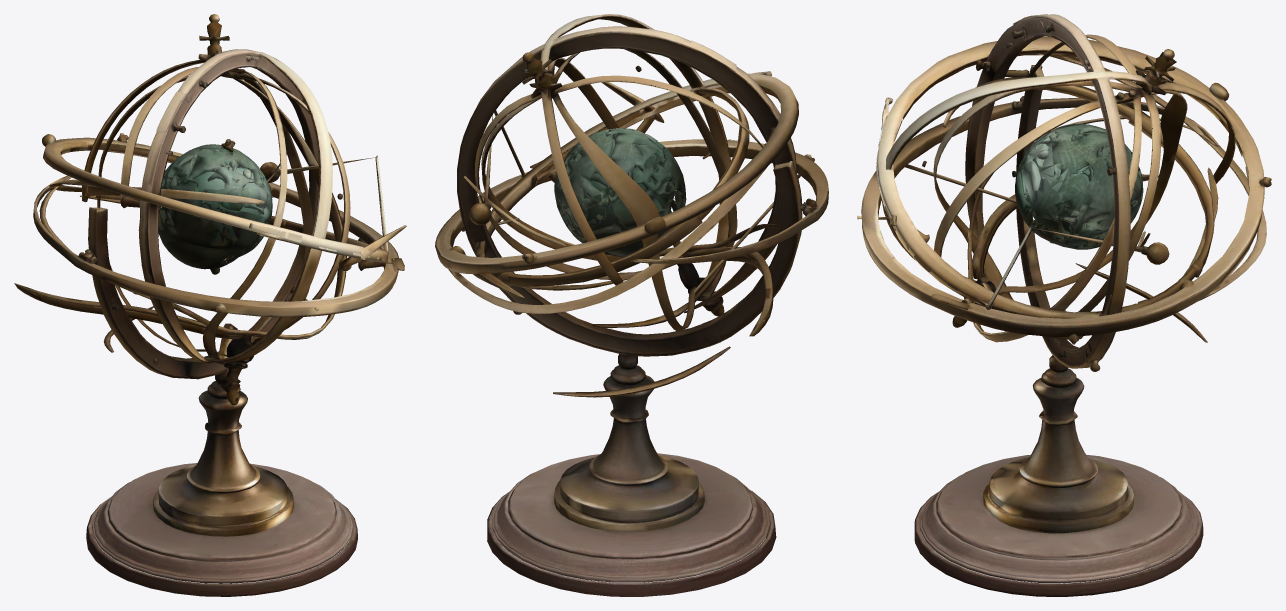
Rendered from armillary.glb.
3 views of the same model, side by side, from view 1: azimuth 30°, elevation 25°; view 2: azimuth 150°, elevation 25°; view 3: azimuth 270°, elevation 25° (orthographic). The views are drawn at different scales.
Visible parts, largest first — view 1: f5225035_5bdf_4188_afa3_0f90f429c5d4; view 2: f5225035_5bdf_4188_afa3_0f90f429c5d4; view 3: f5225035_5bdf_4188_afa3_0f90f429c5d4.
Boxes of the visible parts, box(x1,y1,x2,y2) form: f5225035_5bdf_4188_afa3_0f90f429c5d4: box(14, 14, 406, 596); f5225035_5bdf_4188_afa3_0f90f429c5d4: box(435, 14, 828, 596); f5225035_5bdf_4188_afa3_0f90f429c5d4: box(857, 14, 1271, 596).
Size of the model in its own units: 0.6919 by 0.9995 by 0.7368.
1 material, 1 textured.
